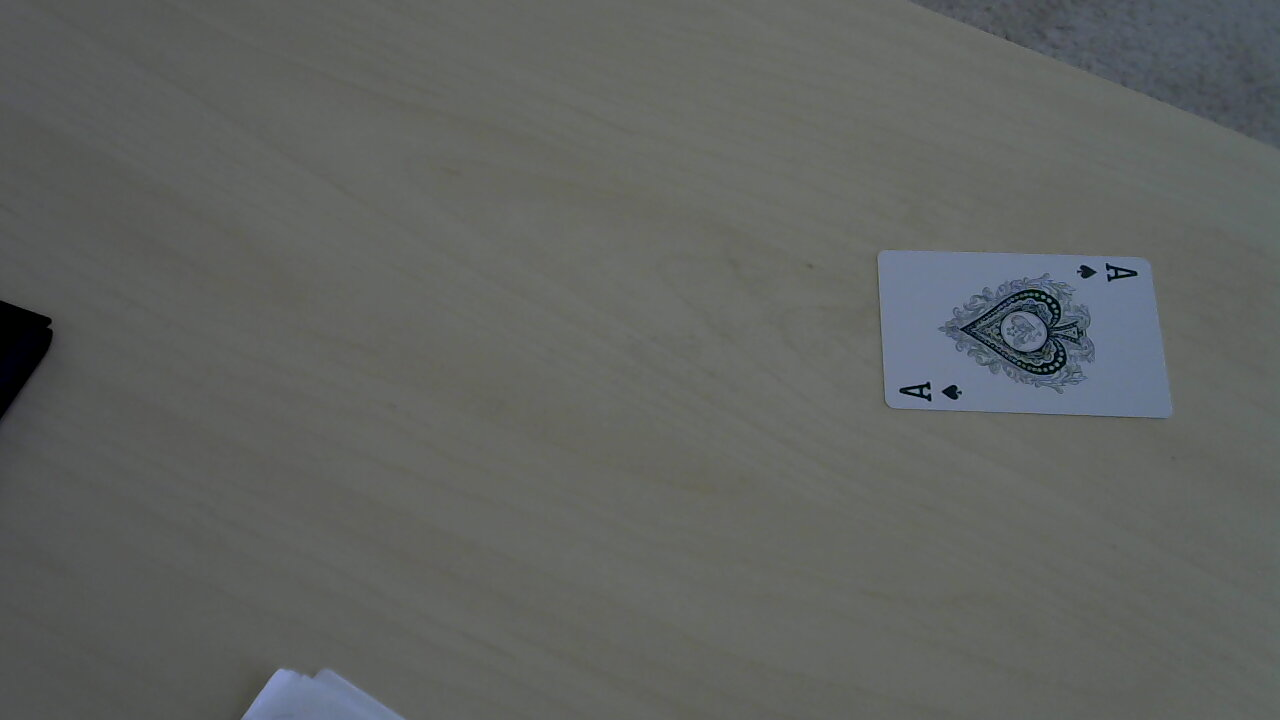one: (895, 261, 1144, 406)
